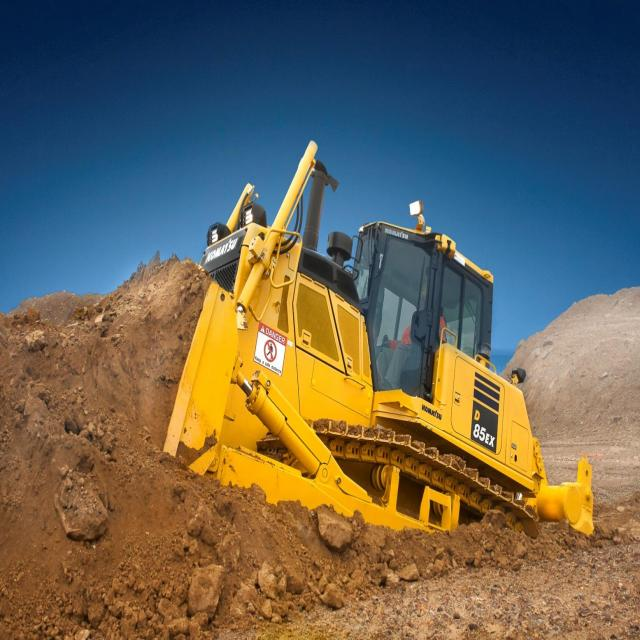Bulldozer: (108, 142, 582, 618)
